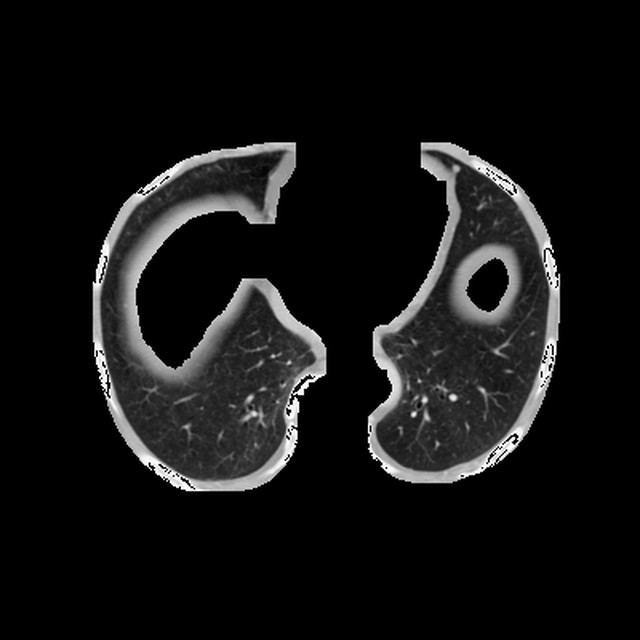PN: (453, 165, 459, 171)
